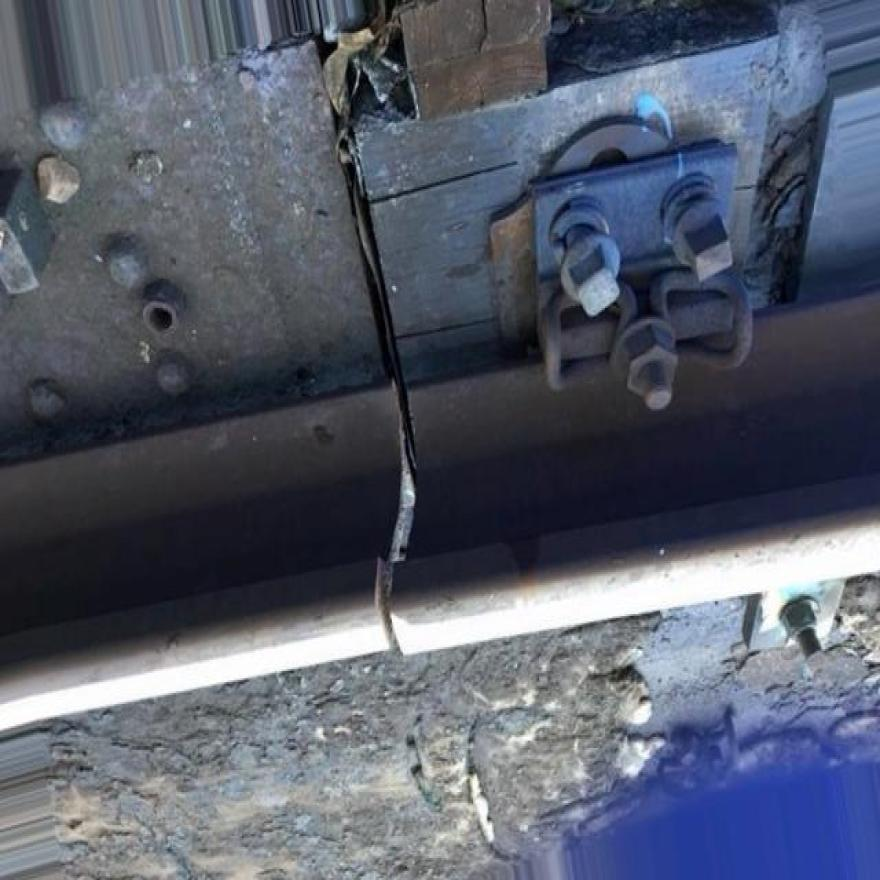railway-gap: (236, 377, 544, 741)
